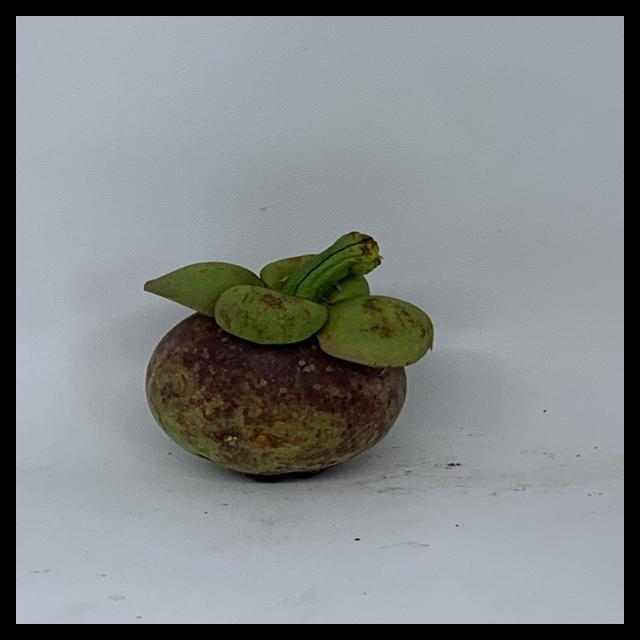mangosteen: (133, 215, 439, 493)
